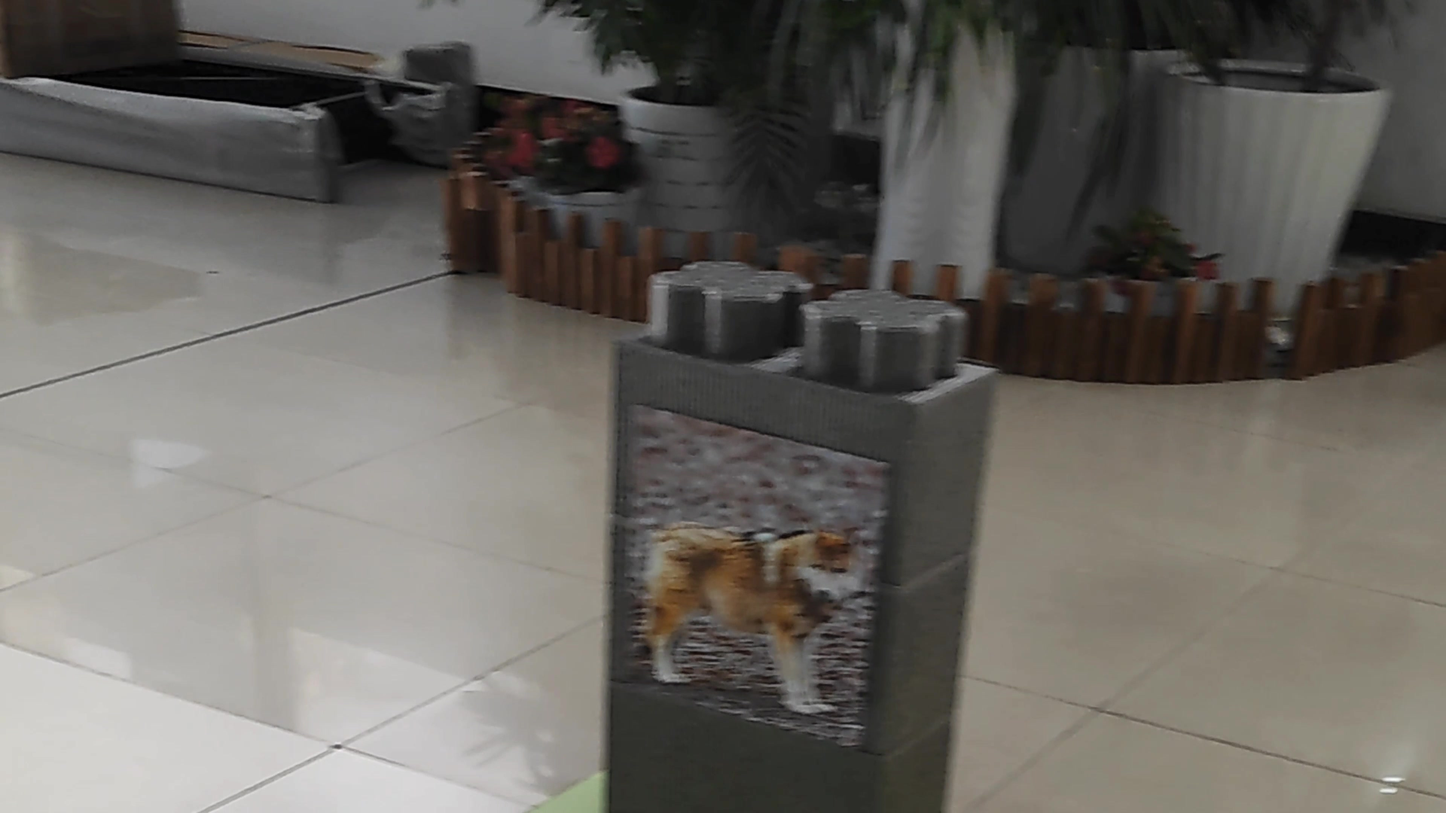wolf: (628, 415, 872, 716)
